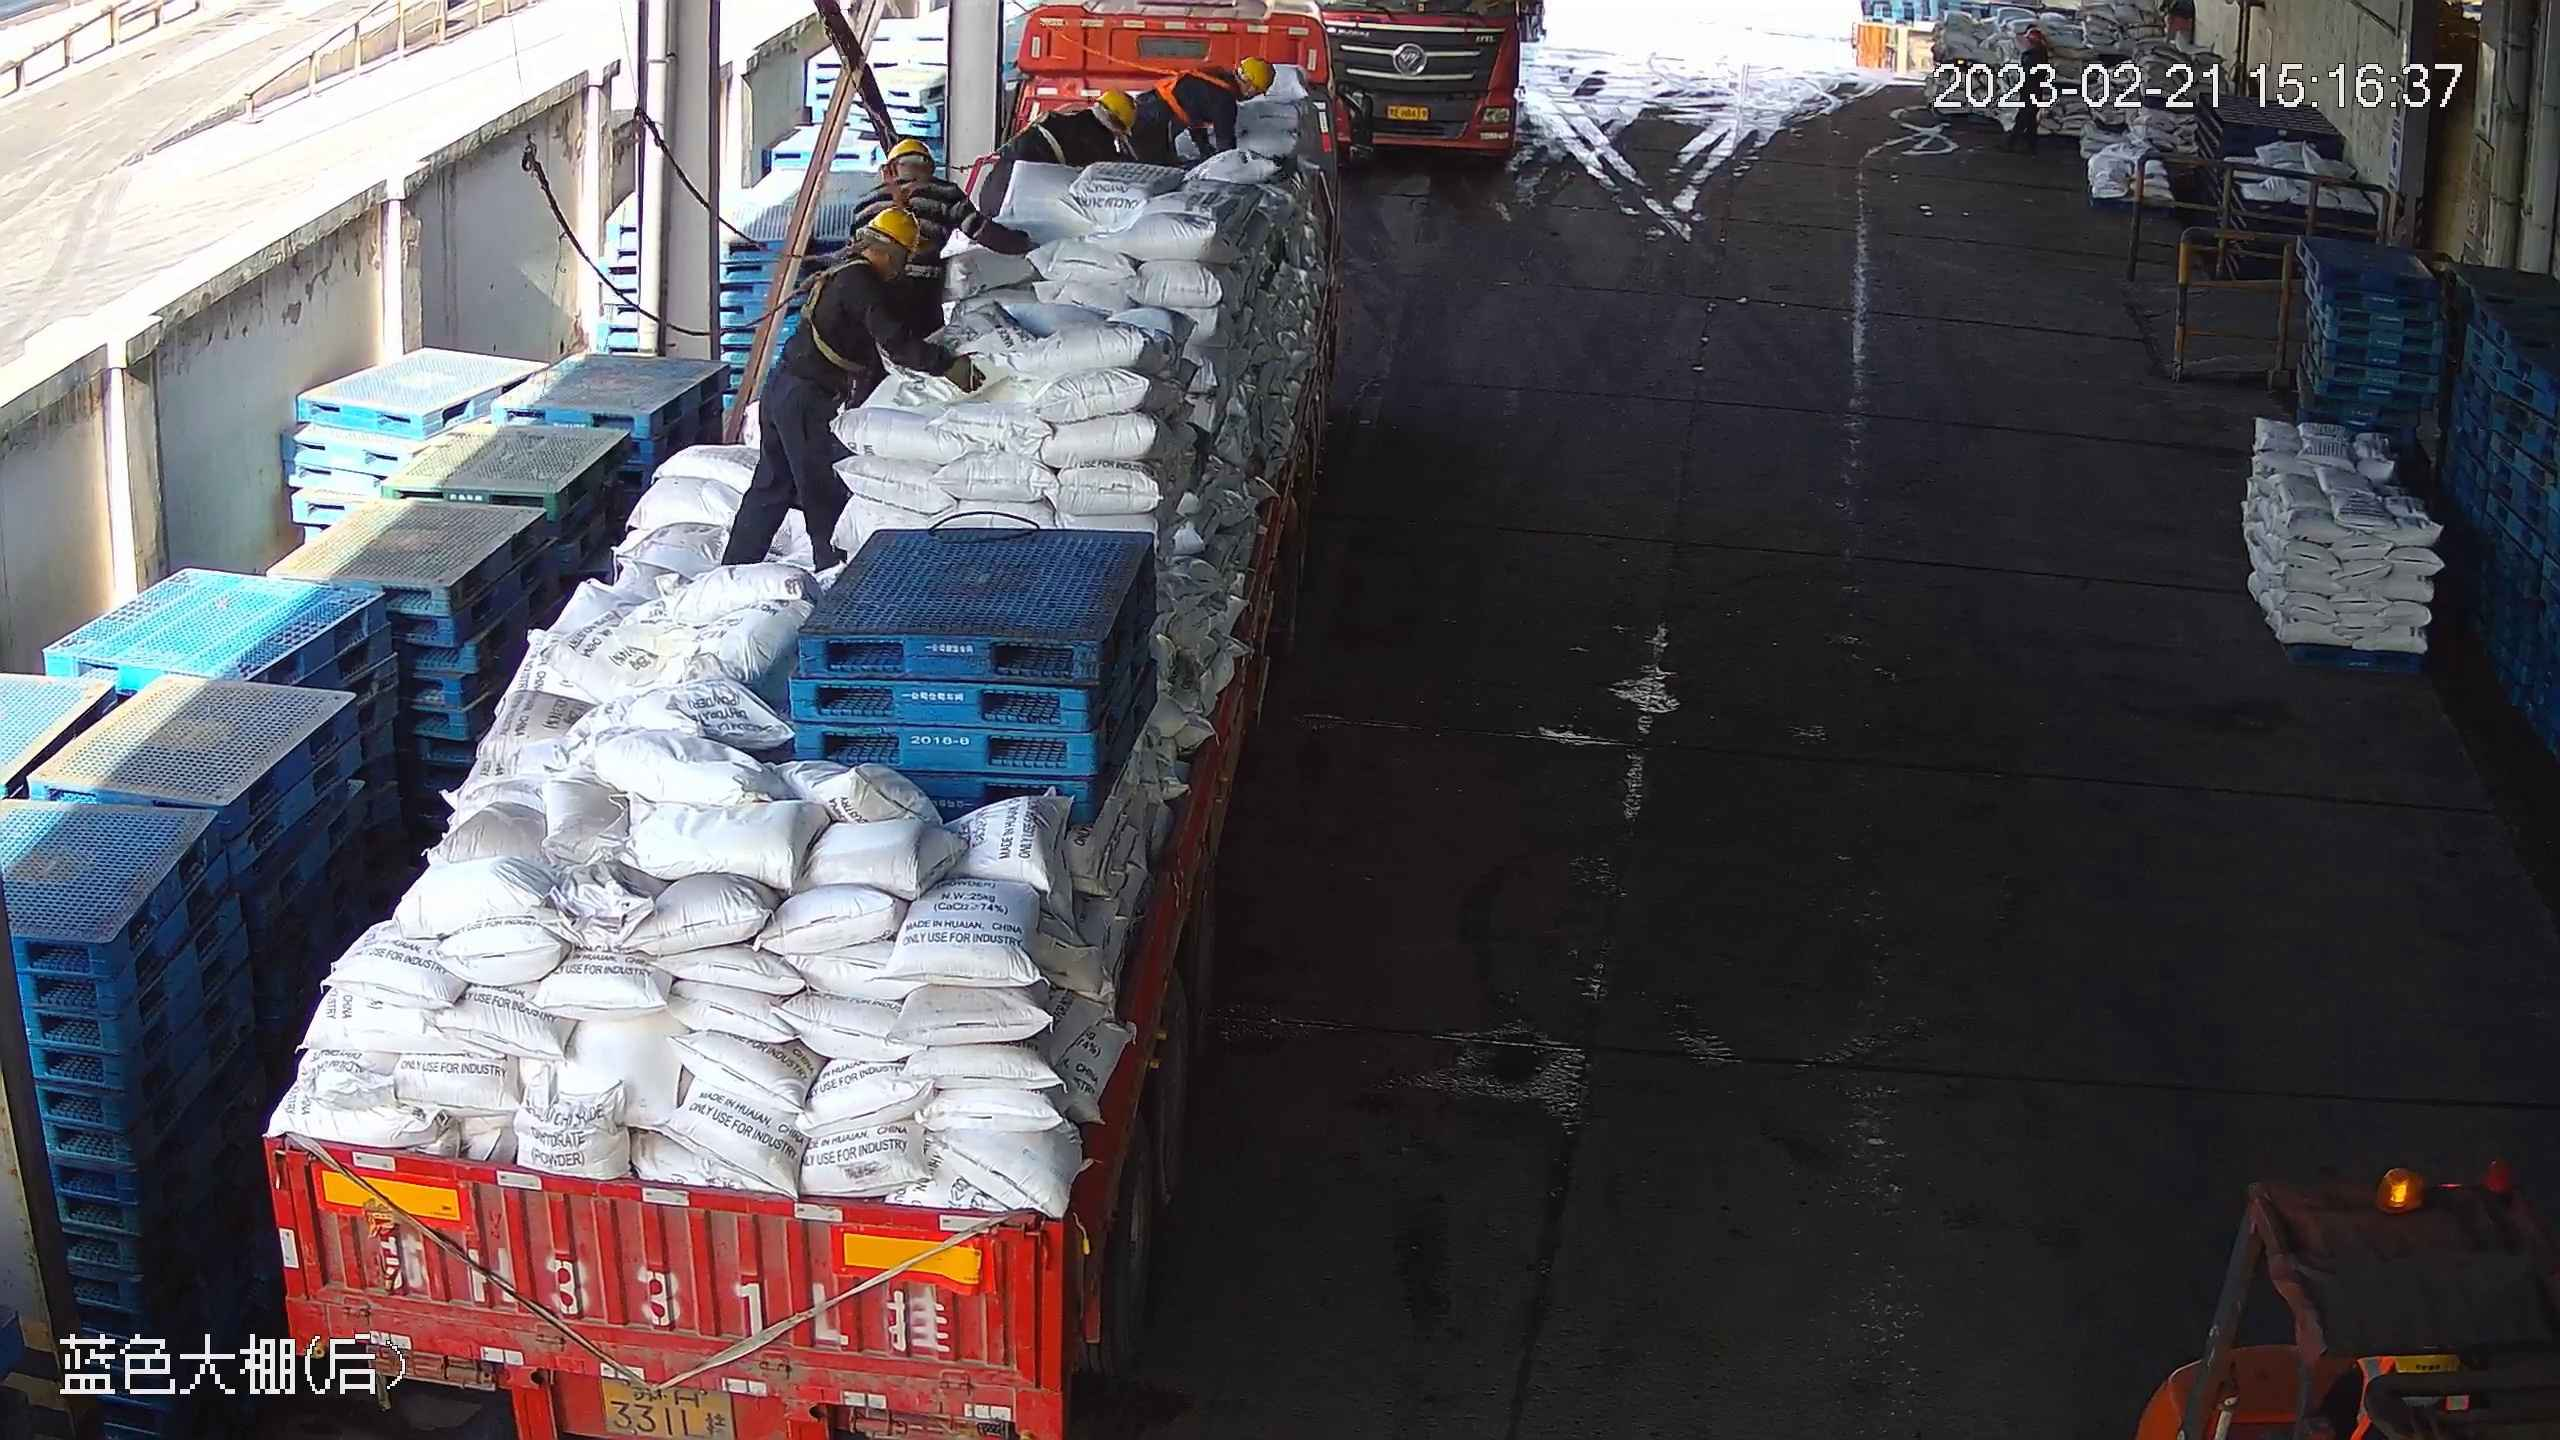belt: (790, 270, 872, 377), (1149, 68, 1240, 110), (1023, 97, 1073, 151)
head: (773, 212, 948, 349), (797, 207, 927, 338), (1044, 82, 1136, 171), (1179, 54, 1280, 114)
helmet: (866, 199, 931, 260), (1088, 81, 1149, 134), (879, 139, 950, 174), (1236, 60, 1277, 94), (1185, 195, 1190, 325)
people: (736, 208, 957, 571)
truck: (240, 1, 1344, 1435), (1319, 1, 1540, 174)
